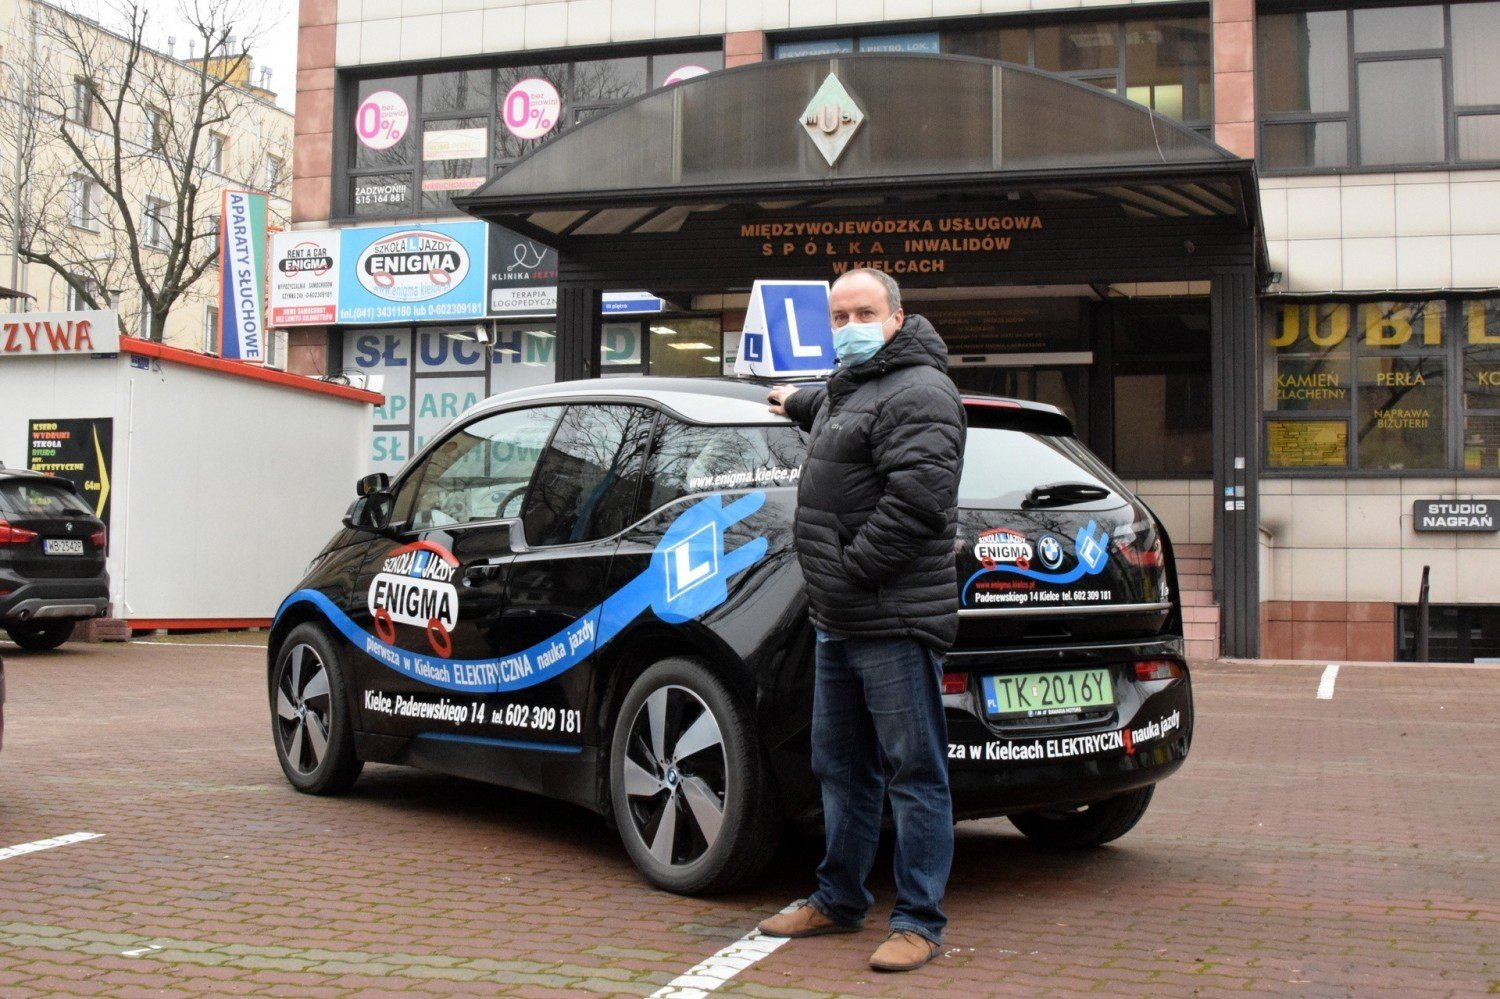tablica: (978, 672, 1116, 710)
